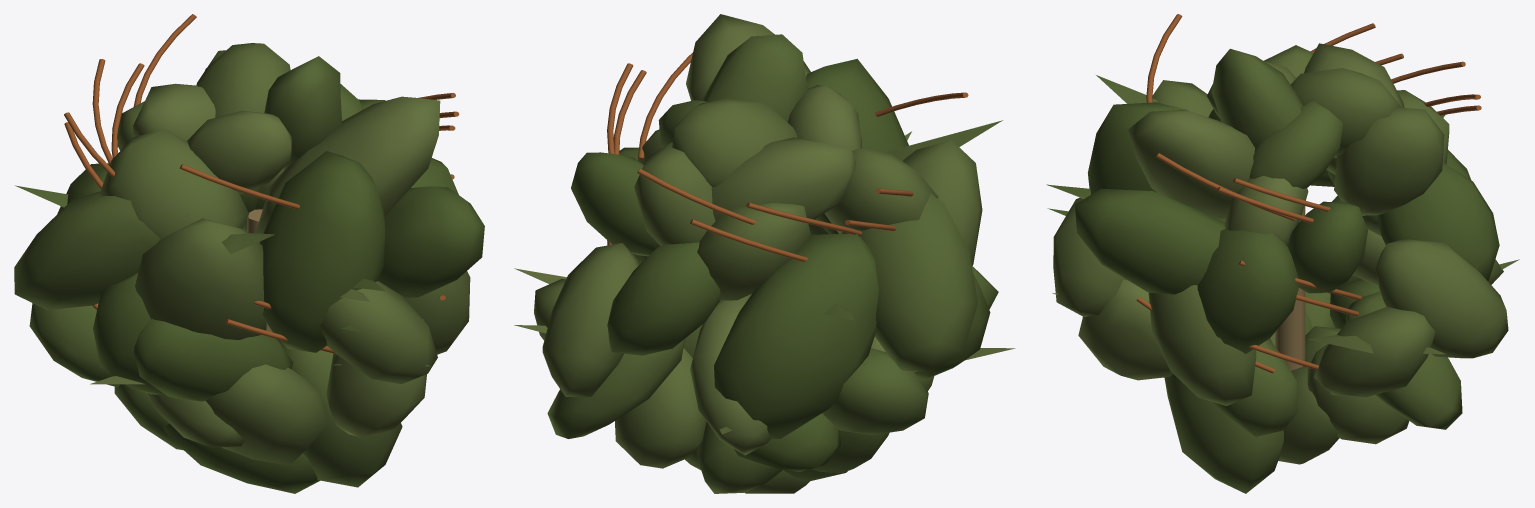
File: bud_4.glb
3 views of the same model, side by side, from view 1: azimuth 30°, elevation 25°; view 2: azimuth 150°, elevation 25°; view 3: azimuth 270°, elevation 25° (orthographic). The views are drawn at different scales.
Parts seen in each view (by area): view 1: Bud_4; view 2: Bud_4; view 3: Bud_4.
Part boxes in pixels (x1,y1,x2,y2): Bud_4: [14, 14, 484, 493]; Bud_4: [514, 14, 1015, 493]; Bud_4: [1046, 14, 1519, 493].
Size of the model in its own units: 0.00548 by 0.00525 by 0.00545.
